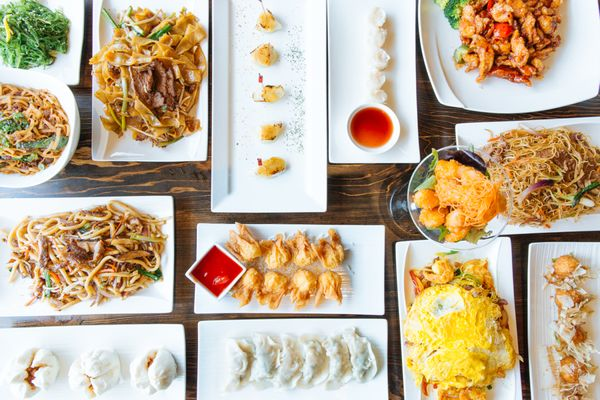curry: (0, 0, 72, 70)
pizza: (346, 101, 402, 152)
sushi: (1, 194, 176, 317), (392, 236, 524, 396), (417, 0, 600, 114), (88, 1, 211, 161), (196, 317, 388, 395), (0, 68, 81, 188)
